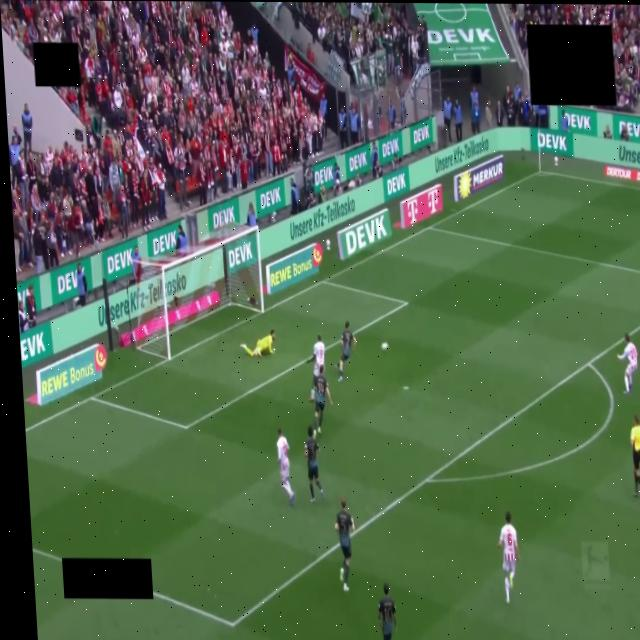ball: (381, 342, 389, 350)
player: (498, 512, 519, 603), (335, 498, 354, 591), (305, 426, 323, 502), (313, 365, 332, 436), (277, 429, 294, 505), (307, 334, 325, 401), (337, 322, 356, 381), (618, 334, 637, 393), (378, 584, 396, 639), (241, 330, 275, 357)
referee: (631, 416, 639, 497)
